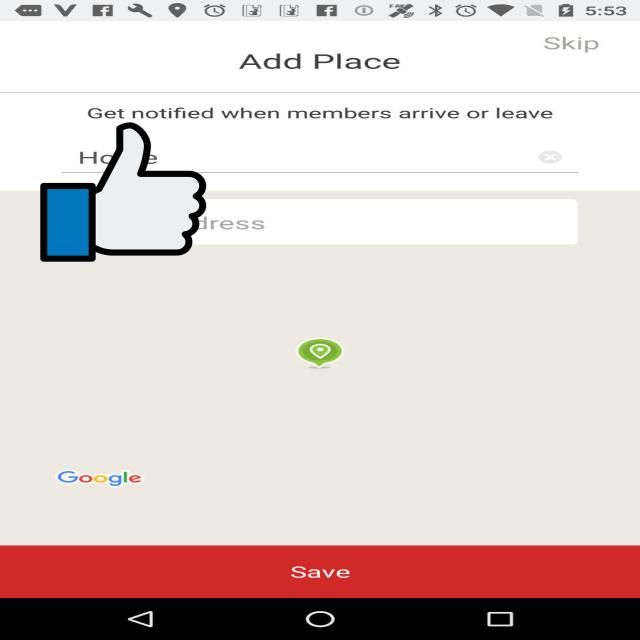privacy zuckering: (40, 119, 206, 265)
